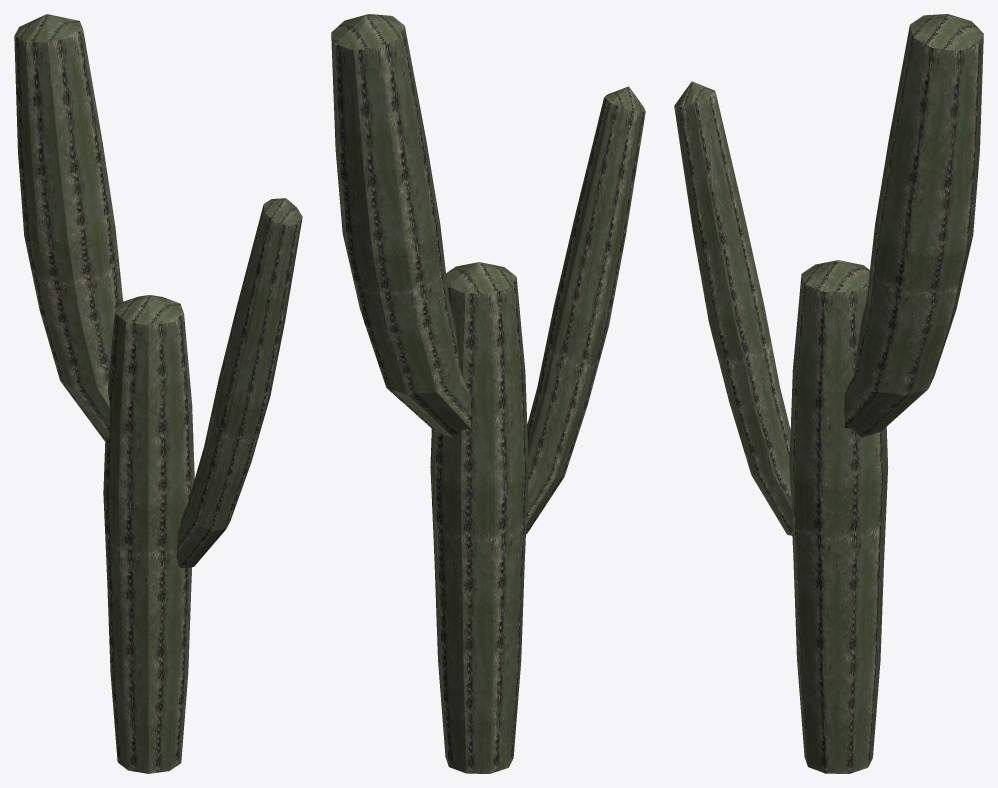
File: sjmcacti1.obj
3 renders of one model, left to right at view 1: azimuth 90°, elevation 25°; view 2: azimuth 150°, elevation 25°; view 3: azimuth 270°, elevation 25°, orthographic. The views are drawn at different scales.
Visible parts, largest first — view 1: sjmcacti1; view 2: sjmcacti1; view 3: sjmcacti1.
Part boxes in pixels (x1,y1,x2,y2): sjmcacti1: (14,14,302,773); sjmcacti1: (331,14,645,773); sjmcacti1: (674,14,983,773).
Size of the model in its own units: 0.9515 by 3.86 by 1.4.
Materials: 1 (1 with a texture image).
